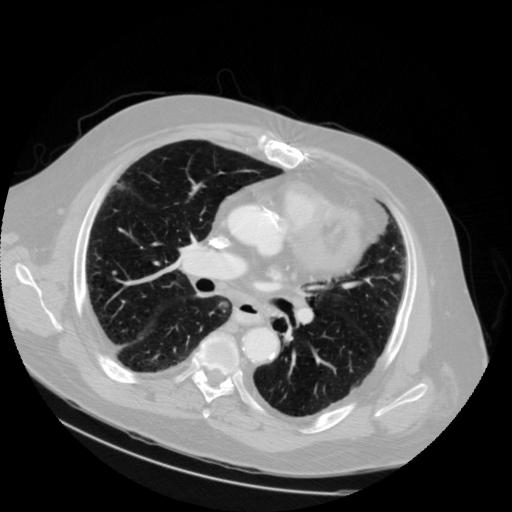nodule: (392, 271, 404, 283)
